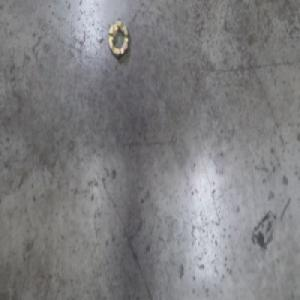Nut: (107, 19, 130, 60)
